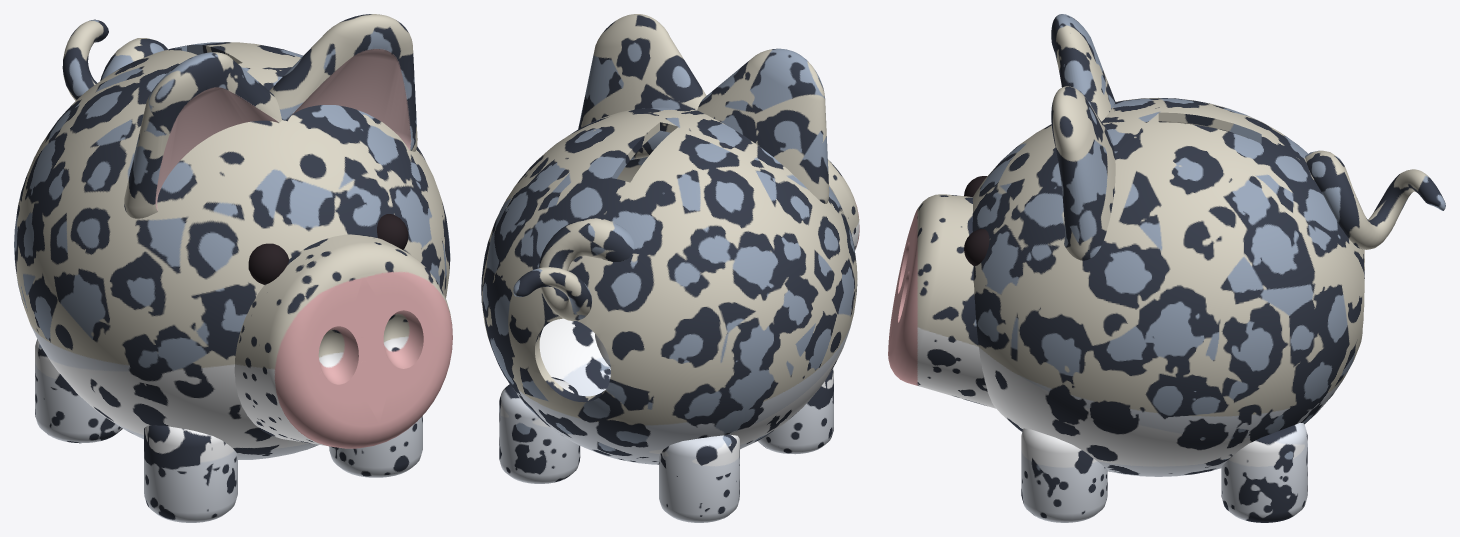
File: snowleopard-complete.fbx
3 views of the same model, side by side, from view 1: azimuth 30°, elevation 25°; view 2: azimuth 150°, elevation 25°; view 3: azimuth 270°, elevation 25° (orthographic). The views are drawn at different scales.
Visible parts, largest first — view 1: Body, Snout, Ears, Legs, Tail, Eyes; view 2: Body, Ears, Legs, Tail, Snout; view 3: Body, Snout, Legs, Ears, Tail, Eyes.
Boxes of the visible parts, x1=… form: Body: x1=14, y1=42, x2=450, y2=459; Snout: x1=234, y1=234, x2=452, y2=448; Ears: x1=124, y1=14, x2=417, y2=218; Legs: x1=35, y1=339, x2=422, y2=522; Tail: x1=62, y1=19, x2=167, y2=100; Eyes: x1=248, y1=214, x2=408, y2=284; Body: x1=481, y1=107, x2=857, y2=464; Ears: x1=578, y1=14, x2=829, y2=203; Legs: x1=499, y1=334, x2=833, y2=522; Tail: x1=513, y1=217, x2=634, y2=321; Snout: x1=828, y1=159, x2=859, y2=250; Body: x1=972, y1=97, x2=1364, y2=476; Snout: x1=888, y1=194, x2=996, y2=408; Legs: x1=1021, y1=423, x2=1307, y2=522; Ears: x1=1051, y1=14, x2=1115, y2=260; Tail: x1=1305, y1=150, x2=1445, y2=249; Eyes: x1=964, y1=176, x2=989, y2=265.
Size of the model in its own units: 1200 by 1397 by 1708.
3 materials, 2 textured.
